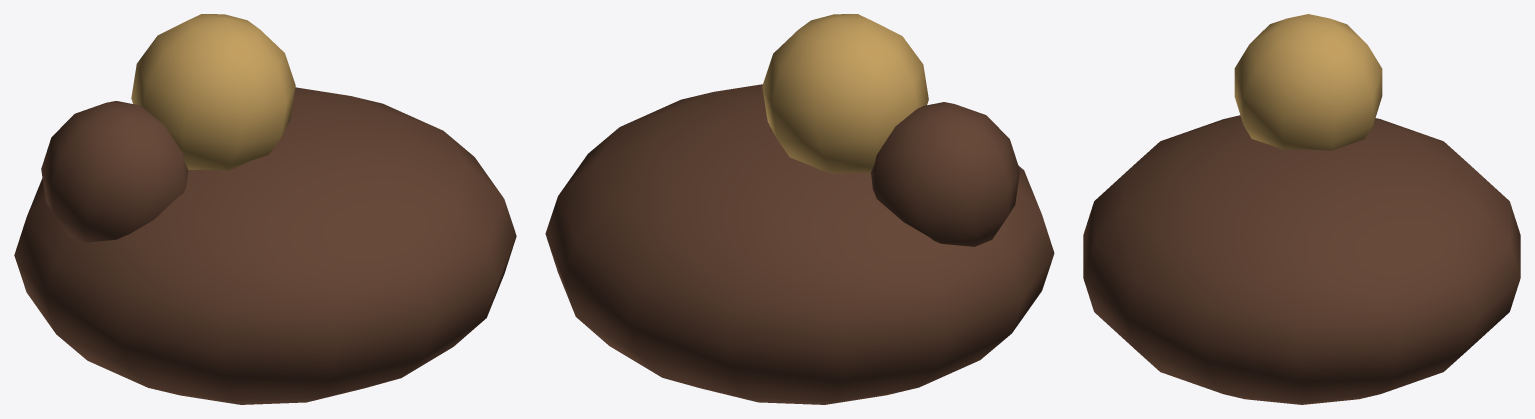
The model's file is curly_hair.glb.
3 views of the same model, side by side, from view 1: azimuth 30°, elevation 25°; view 2: azimuth 150°, elevation 25°; view 3: azimuth 270°, elevation 25° (orthographic). The views are drawn at different scales.
Visible parts, largest first — view 1: hair_cap, hair_detail_2, hair_detail_1; view 2: hair_cap, hair_detail_2, hair_detail_1; view 3: hair_cap, hair_detail_2.
Part boxes in pixels (left/top/right/bottom): hair_cap: left=14, top=87, right=516, bottom=404; hair_detail_2: left=131, top=14, right=295, bottom=170; hair_detail_1: left=41, top=101, right=188, bottom=242; hair_cap: left=545, top=84, right=1054, bottom=404; hair_detail_2: left=762, top=14, right=928, bottom=173; hair_detail_1: left=871, top=102, right=1020, bottom=246; hair_cap: left=1083, top=115, right=1520, bottom=404; hair_detail_2: left=1234, top=14, right=1382, bottom=150.
Size of the model in its own units: 0.728 by 0.5608 by 0.6824.
